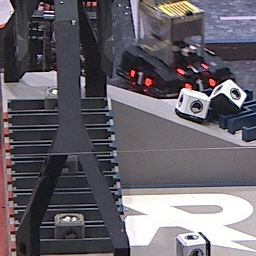Red: (173, 61, 212, 77), (183, 78, 217, 94), (129, 67, 152, 89)
Robot: (118, 1, 236, 99)
